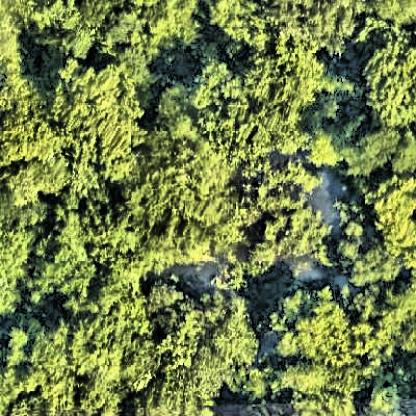tree-top: (124, 127, 247, 262), (1, 313, 147, 416), (196, 43, 326, 156), (50, 63, 147, 178), (205, 1, 358, 53), (1, 109, 74, 202), (280, 290, 370, 361), (37, 203, 102, 298), (357, 35, 416, 131), (31, 1, 115, 58), (117, 1, 197, 55), (361, 180, 416, 257), (1, 216, 39, 324), (129, 369, 212, 416), (269, 357, 367, 394), (346, 129, 416, 174), (153, 309, 206, 366), (1, 66, 49, 125), (215, 311, 261, 369), (287, 383, 359, 416), (363, 375, 405, 416), (1, 1, 30, 58), (365, 1, 416, 31), (310, 131, 347, 169)
